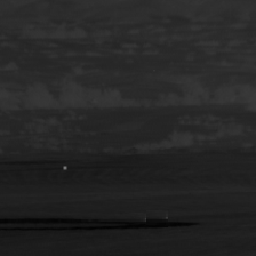Target: (61, 165, 67, 171)
